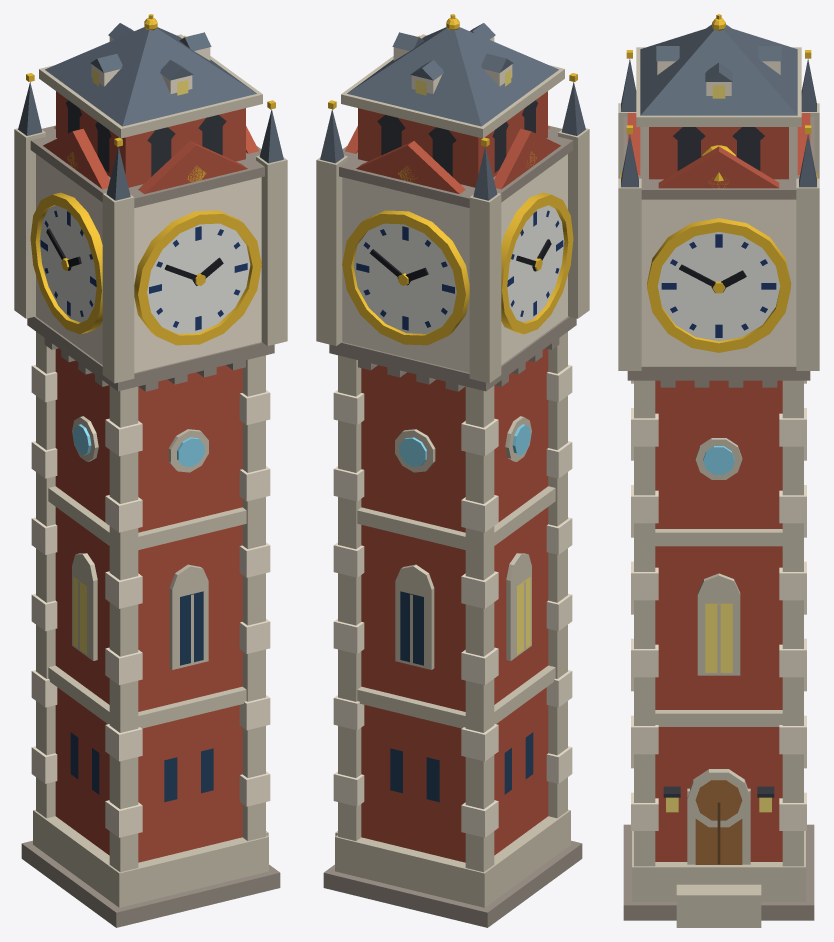
Rendered from clock_tower.glb.
The picture shows the model from 3 angles, left to right: view 1: azimuth 30°, elevation 25°; view 2: azimuth 150°, elevation 25°; view 3: azimuth 270°, elevation 25°; orthographic projection.
Visible parts, largest first — view 1: Body; view 2: Body; view 3: Body.
Boxes of the visible parts, x1,y1,x2,y2 form: Body: (14,14,287,927); Body: (316,14,589,927); Body: (618,14,819,927).
Bounding box in the file's own units: 1 × 4.5 × 0.95.
